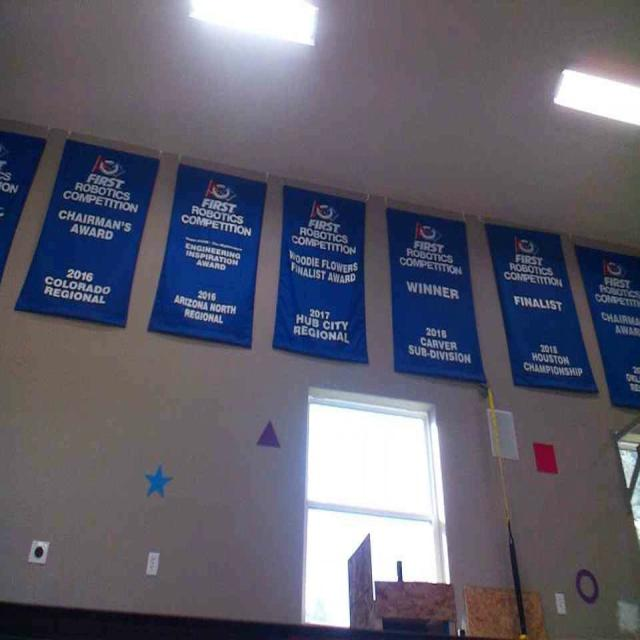ring_purple: (574, 568, 600, 604)
square_red: (530, 439, 559, 473)
star_blue: (144, 463, 172, 498)
triangle_purple: (256, 419, 280, 446)
